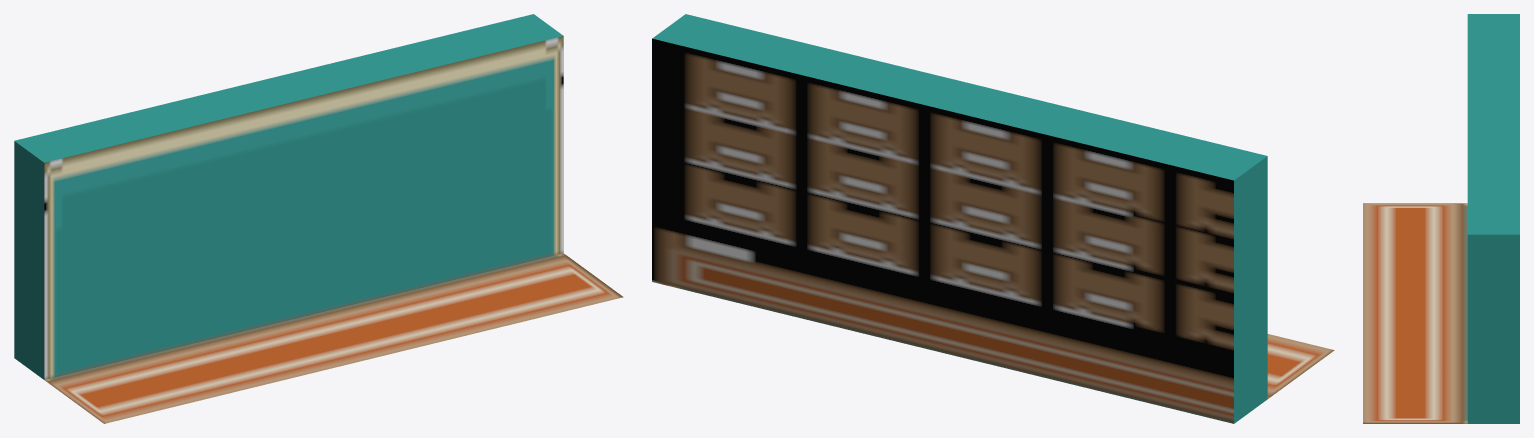
File: stage.glb
The picture shows the model from 3 angles, left to right: view 1: azimuth 30°, elevation 25°; view 2: azimuth 150°, elevation 25°; view 3: azimuth 270°, elevation 25°; orthographic projection. The views are drawn at different scales.
Parts seen in each view (by area): view 1: Plane; view 2: Plane; view 3: Plane.
Boxes of the visible parts, x1,y1,x2,y2 form: Plane: (14, 14, 623, 423); Plane: (652, 14, 1334, 423); Plane: (1363, 14, 1519, 423).
Size of the model in its own units: 10 by 4 by 3.
Materials: 1 (1 with a texture image).
